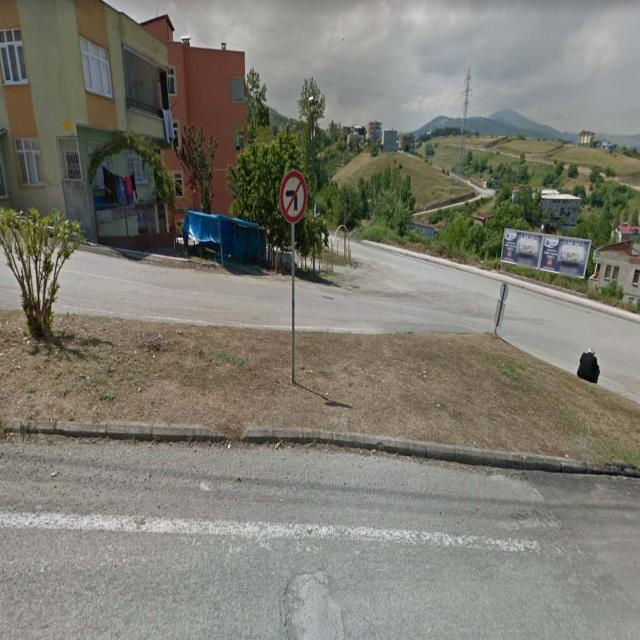soladonulmez: (279, 170, 307, 223)
